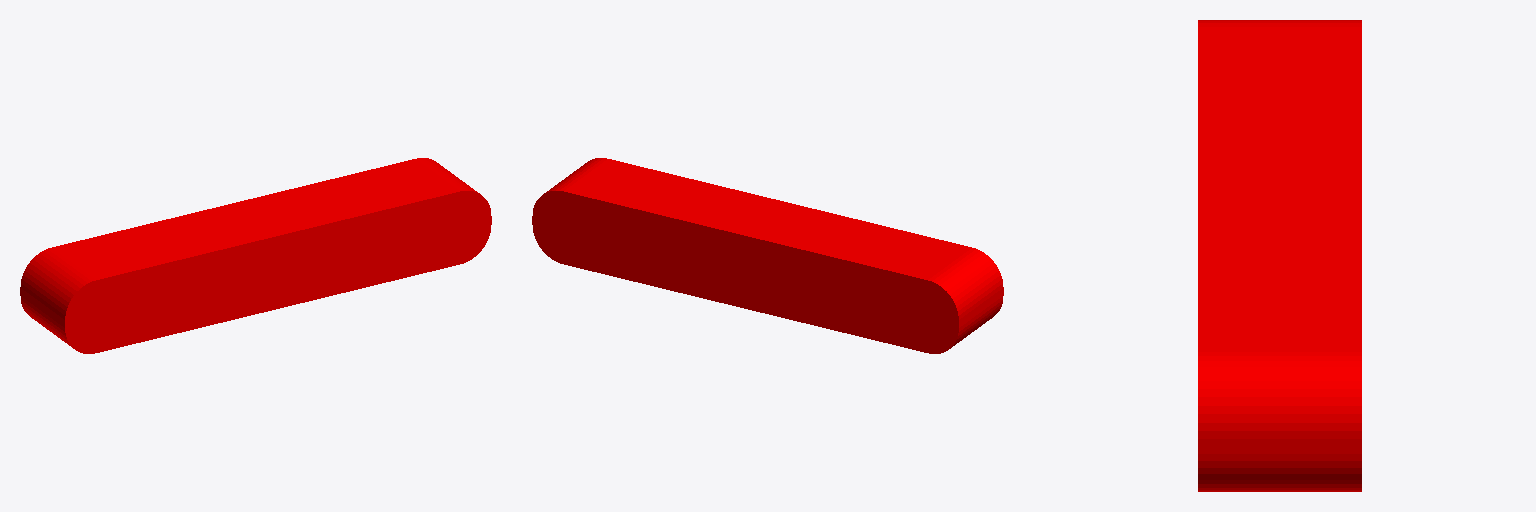
URDF robot description (omnipointer):
<?xml version="1.0" ?>

<robot name="omnipointer">

  <material name="omni/Blue">
    <color rgba="0 0 0.8 1"/>
  </material>
  <material name="omni/Red">
    <color rgba="1 0 0 1"/>
  </material>
  <material name="omni/Green">
    <color rgba="0 1 0 1"/>
  </material>
  <material name="omni/Yellow">
    <color rgba="1 1 0 1"/>
  </material>
  <!-- <material name="omni/LightGrey">
    <color rgba="0.6 0.6 0.6 1"/>
  </material>
  <material name="omni/DarkGrey">
    <color rgba="0.4 0.4 0.4 1"/>
  </material> -->

<!-- HIP -->
  <link name="hip_module">
    <visual>
      <origin rpy="0 0 0" xyz="0 0 0.0615"/>
      <geometry>
        <!-- <box size="0.0402 0.05 0.123"/> -->
      </geometry>
      <material name="omni/Blue"/>
    </visual>
    <collision>
      <origin rpy="0 0 0" xyz="0 0 0.0615"/>
      <geometry>
        <box size="0.0402 0.05 0.123"/>
      </geometry>
    </collision>
    <inertial>
      <origin rpy="0 0 0" xyz="0 0 0.0615"/>
      <mass value="0.190421352"/>
      <inertia ixx="0.000279744834534" ixy="0" ixz="0" iyy="0.000265717763008" iyz="0" izz="6.53151584738e-05"/>
    </inertial>
  </link>

  <joint name="hip_joint" type="revolute">
    <parent link="hip_module"/>
    <child link="upper_leg"/>
    <dynamics damping="3.0" friction="0.3"/>
    <limit effort="30.0" lower="-1.57079632679" upper="1.57079632679" velocity="5.0"/>
    <origin rpy="0 0 0" xyz="0 0 0.123"/>
    <axis xyz="0 1 0"/>
  </joint>


<!-- UPPER LEG -->
  <link name="upper_leg">
    <visual>
      <origin rpy="0 0 0" xyz="0 0 0.1585"/>
      <geometry>
        <!-- <box size="0.0356 0.05 0.317"/> -->
        <mesh filename="package://amber_sim/stl/UPLEG.stl"/>
      </geometry>
      <material name="omni/Red"/>
    </visual>
    <collision>
      <origin rpy="0 0 0" xyz="0 0 0.1585"/>
      <geometry>
        <box size="0.0356 0.05 0.317"/>
      </geometry>
    </collision>
    <inertial>
      <origin rpy="0 0 0" xyz="0 0 0.1585"/>
      <mass value="0.29302326"/>
      <inertia ixx="0.00251484771035" ixy="0" ixz="0" iyy="0.00248474836108" iyz="0" izz="9.19936757328e-05"/>
    </inertial>
  </link>

  <joint name="knee_joint" type="revolute">
    <parent link="upper_leg"/>
    <child link="lower_leg"/>
    <dynamics damping="3.0" friction="0.3"/>
    <limit effort="30.0" lower="-1.57079632679" upper="1.57079632679" velocity="5.0"/>
    <origin rpy="0 0 0" xyz="0 0 0.317"/>
    <axis xyz="0 1 0"/>
  </joint>

<!-- LOWER LEG -->
  <link name="lower_leg">
    <visual>
      <origin rpy="0 0 0" xyz="0 0 0.101"/>
      <geometry>
        <!-- <box size="0.0356 0.05 0.202"/> -->
        <mesh filename="package://amber_sim/stl/LOWLEG.stl"/>
      </geometry>
      <material name="omni/Yellow"/>
    </visual>
    <collision>
      <origin rpy="0 0 0" xyz="0 0 0.101"/>
      <geometry>
        <box size="0.0356 0.05 0.202"/>
      </geometry>
    </collision>
    <inertial>
      <origin rpy="0 0 0" xyz="0 0 0.101"/>
      <mass value="0.21931466"/>
      <inertia ixx="0.000791433503053" ixy="0" ixz="0" iyy="0.000768905501178" iyz="0" izz="6.88531064581e-05"/>
    </inertial>
  </link>

</robot>

--- What the picture shows (computed from the rendered views, not written in the file) ---
Views: 3 orthographic renders of the robot side by side, from view 1: azimuth 30°, elevation 25°; view 2: azimuth 150°, elevation 25°; view 3: azimuth 270°, elevation 25°.
Robot: omnipointer — 3 links, 2 joints (2 revolute); root link hip_module; default pose: all joints at 0.
Links seen in each view (by area): view 1: upper_leg; view 2: upper_leg; view 3: upper_leg.
Boxes of the visible links, x1,y1,x2,y2 form: upper_leg: [20, 158, 491, 353]; upper_leg: [532, 158, 1003, 353]; upper_leg: [1198, 20, 1361, 491].
Bounding box of the posed robot: 0.7514 × 0.1366 × 0.123 m (x, y, z).
1 mesh visuals loaded from 2 distinct referenced files (1 binary STL); not drawn: 1 (reference not matched to a file when rendering).